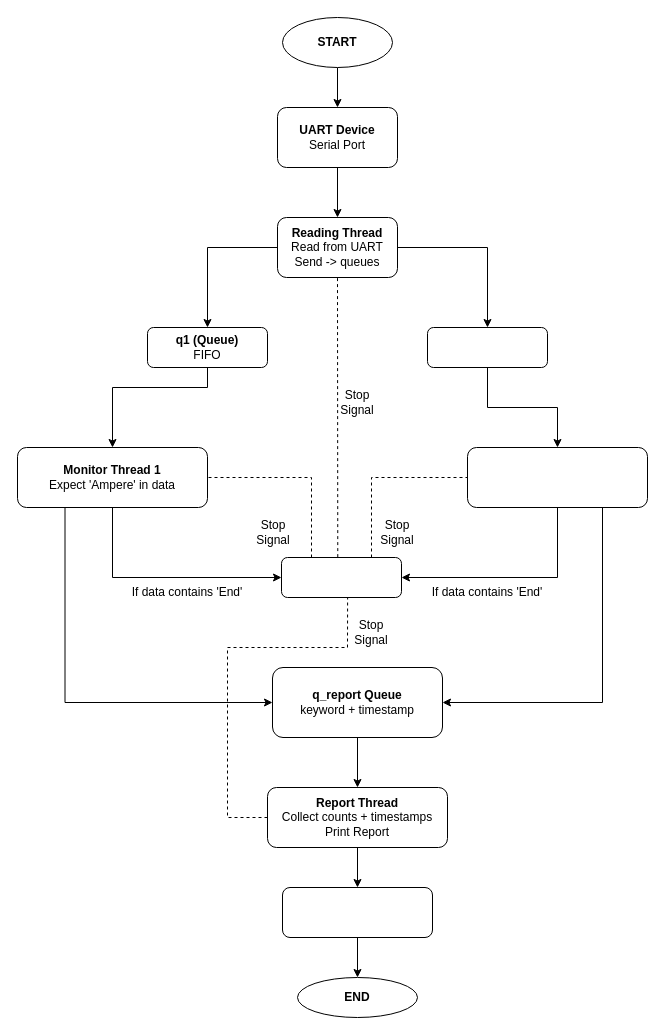
Image size: 665x1035. Some labels were removed from this diagram. Each missing label, with the box of its shape:
Close serial port: (282, 886, 432, 938)
Monitor Thread 2 Expect 'Computing' in data: (466, 446, 648, 508)
q2 (Queue) FIFO: (426, 326, 548, 368)
Shared stop-event: (280, 556, 402, 598)
